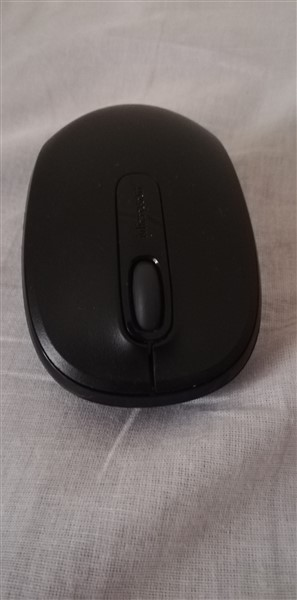mouse: (19, 93, 268, 420)
